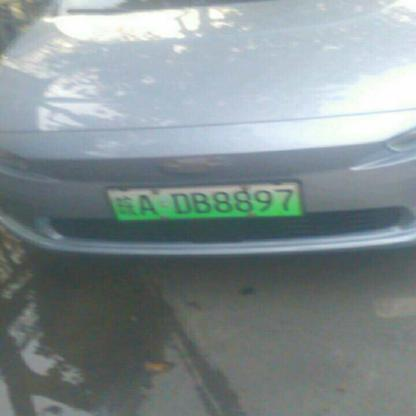lp: (105, 181, 303, 224)
